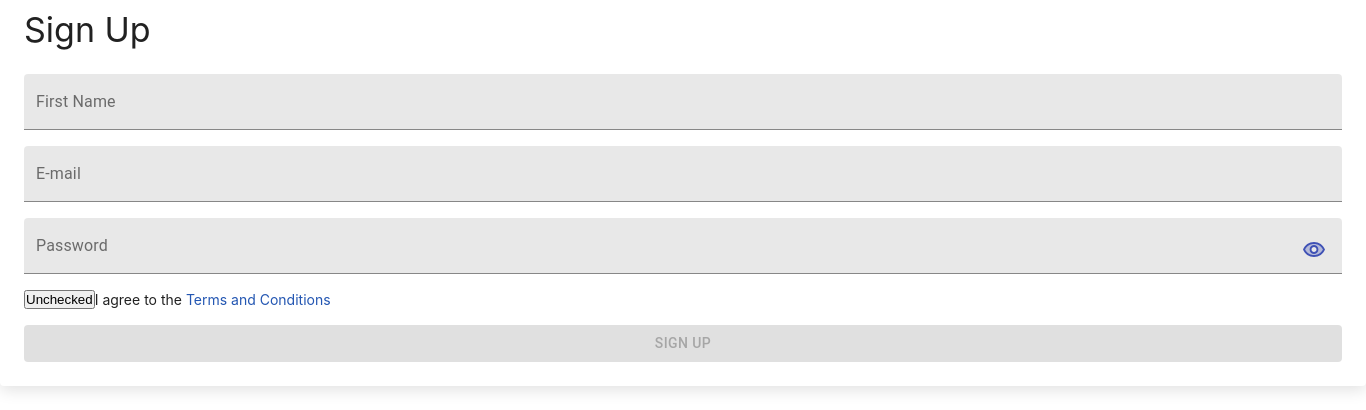
Test: <SignUp /> › renders without errors › submit form elements › terms › checkbox should be Checked
Click the button with id "checkbox": [59, 300] box left=24, top=290, right=95, bottom=309
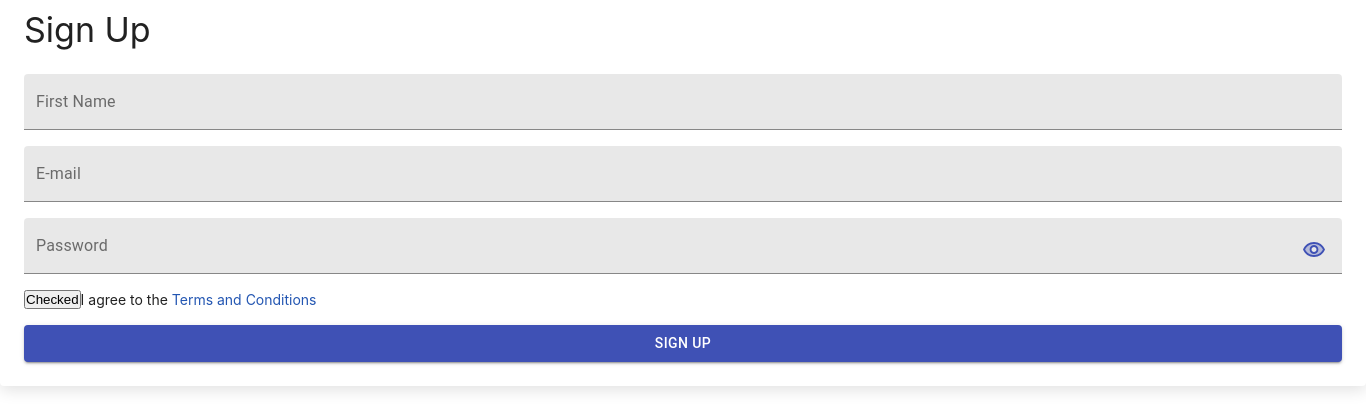
Now the button with id "checkbox" reads "Checked", box left=24, top=290, right=81, bottom=309
